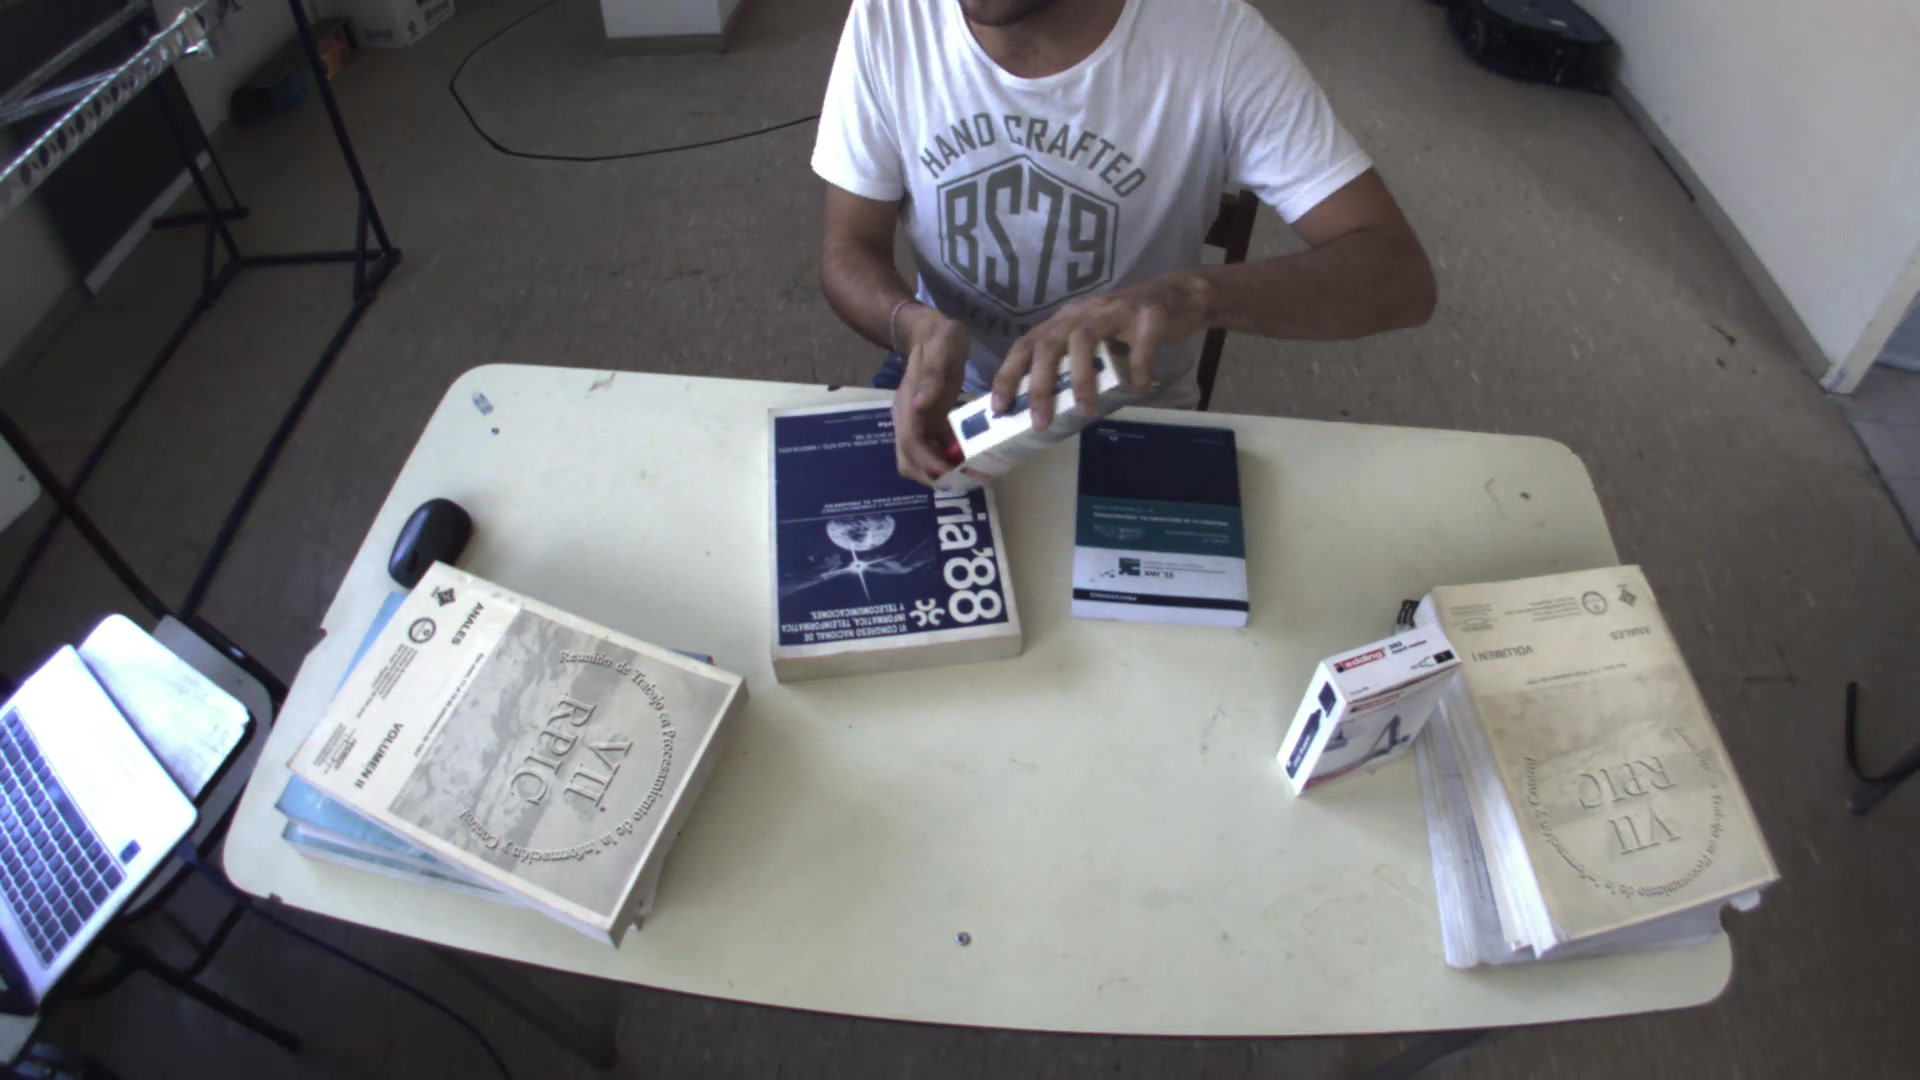hand: (985, 255, 1218, 435), (872, 297, 976, 489)
